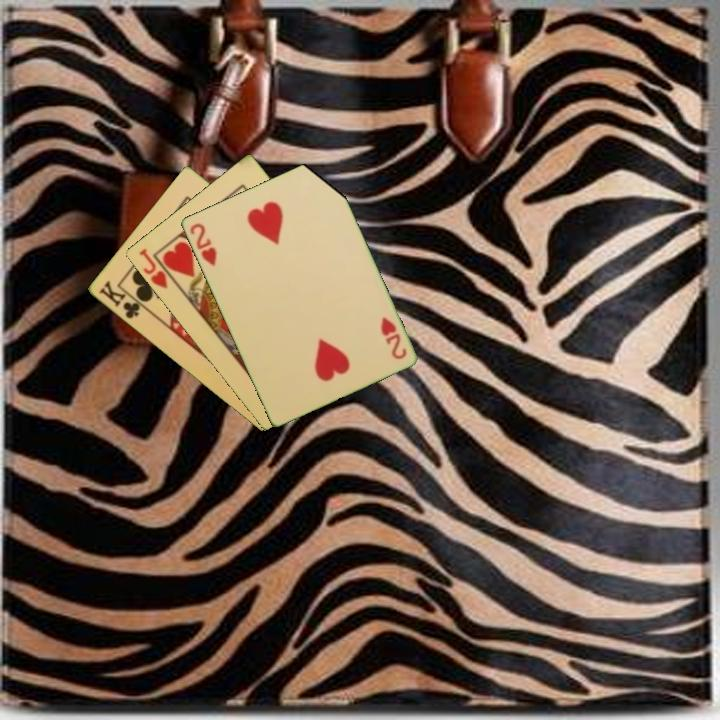2h: (186, 219, 220, 269), (377, 313, 409, 362)
Jh: (135, 244, 180, 292)
Kc: (95, 277, 149, 322)
